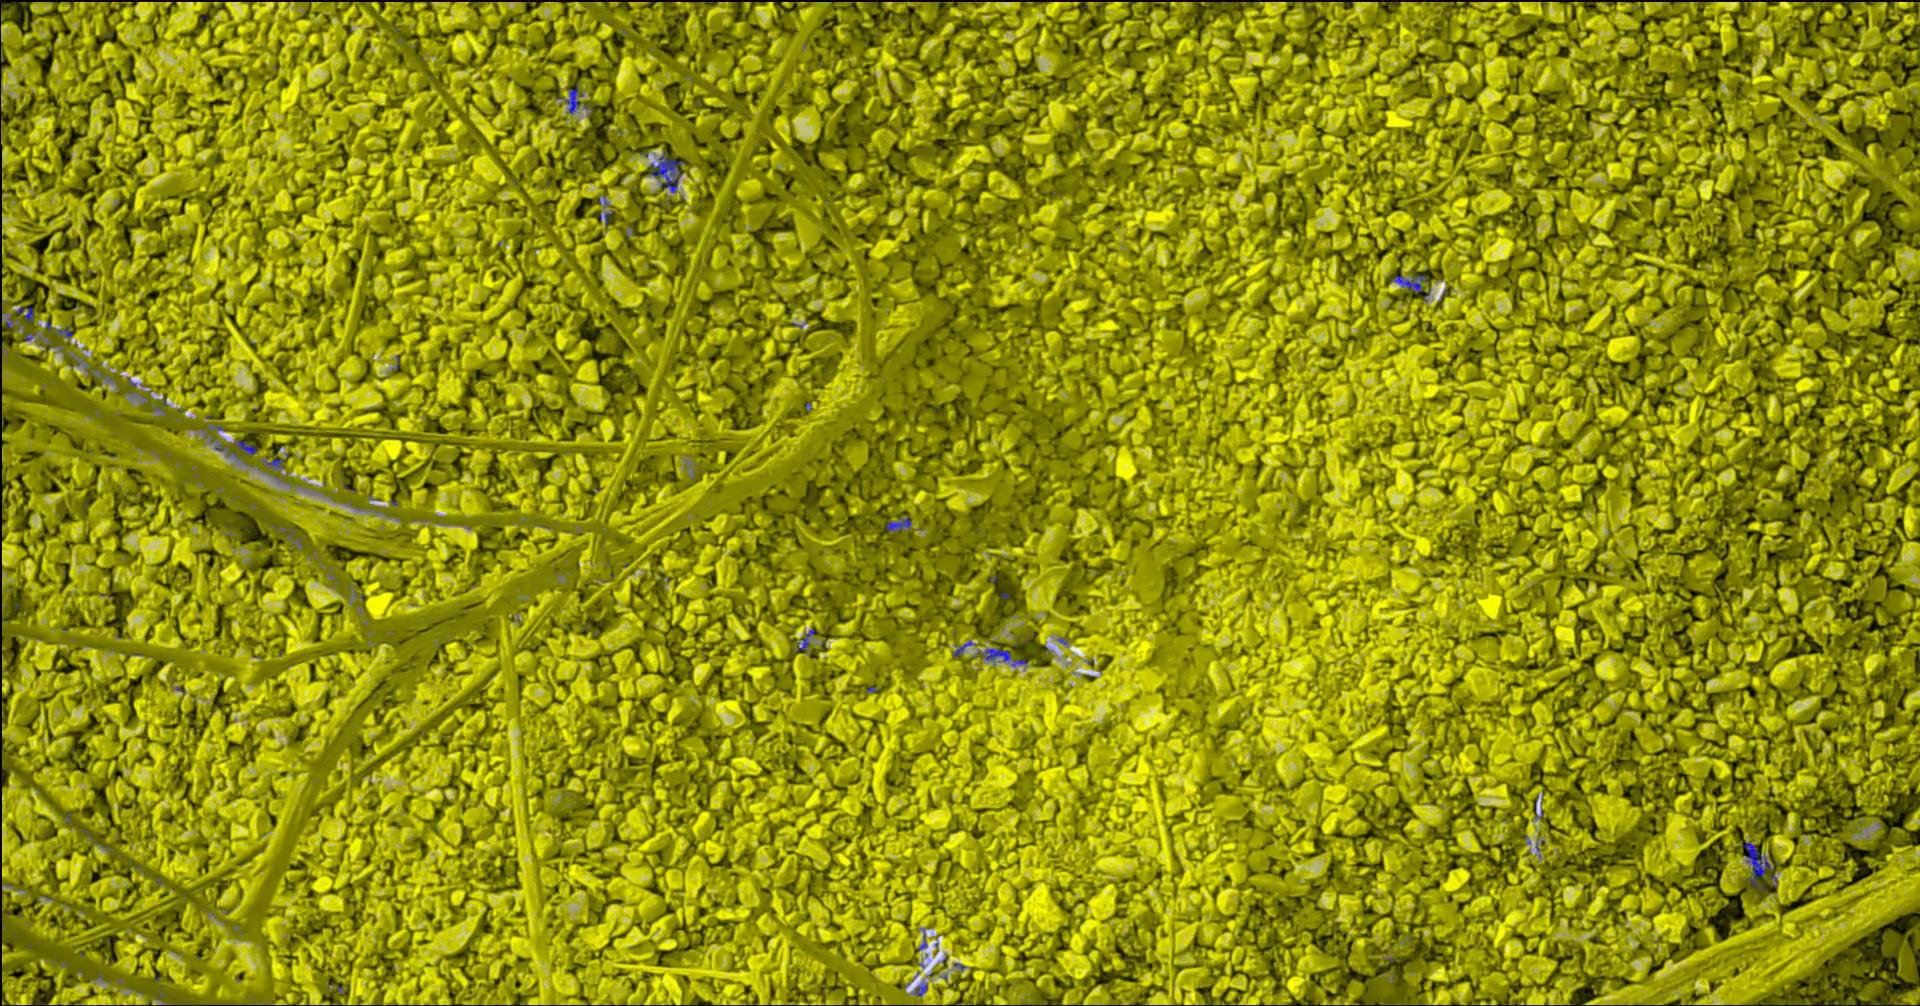ant: (650, 151, 687, 192), (1745, 840, 1773, 892), (985, 648, 1029, 666), (568, 84, 593, 113), (1394, 274, 1429, 292), (794, 627, 817, 652), (232, 439, 259, 457), (47, 320, 74, 337), (888, 516, 913, 531), (954, 640, 977, 657), (18, 305, 36, 323), (916, 983, 930, 996), (267, 459, 284, 467)
